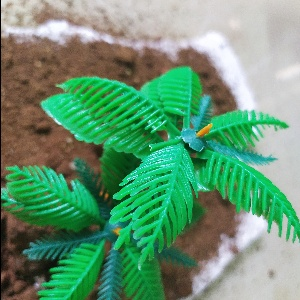plant: (5, 55, 300, 294)
